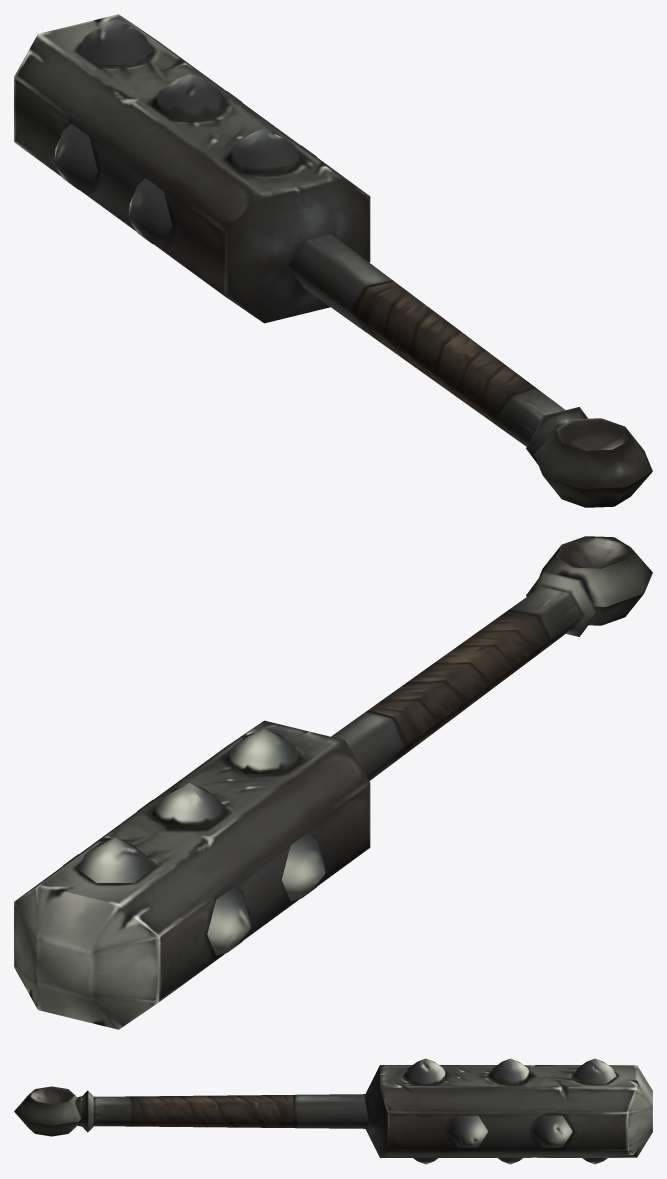
The model's file is Mace07.fbx.
The picture shows the model from 3 angles, top to bottom: view 1: azimuth 30°, elevation 25°; view 2: azimuth 150°, elevation 25°; view 3: azimuth 270°, elevation 25°; orthographic projection. The views are drawn at different scales.
Visible parts, largest first — view 1: Mace07_el1, Mace07_el2; view 2: Mace07_el1, Mace07_el2; view 3: Mace07_el1, Mace07_el2.
Boxes of the visible parts, <box> form: Mace07_el1: <box>14,14,370,323</box>; Mace07_el2: <box>288,233,652,507</box>; Mace07_el1: <box>14,720,370,1029</box>; Mace07_el2: <box>331,536,652,780</box>; Mace07_el1: <box>365,1058,652,1164</box>; Mace07_el2: <box>14,1086,368,1136</box>.
Bounding box in the file's own units: 0.2288 × 0.2076 × 1.13.
